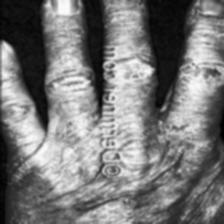Non-Cancerous Skin Condition: (175, 53, 224, 107), (38, 67, 94, 103), (120, 55, 158, 88), (0, 96, 36, 130)
